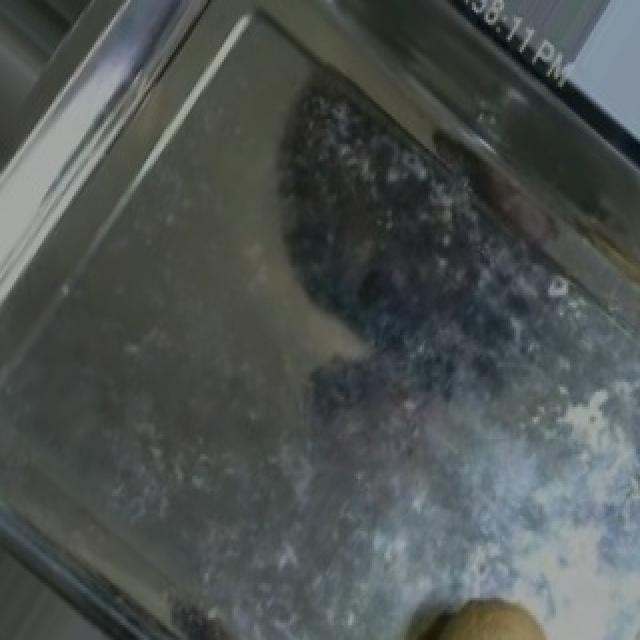Fruit: (404, 585, 600, 640)
